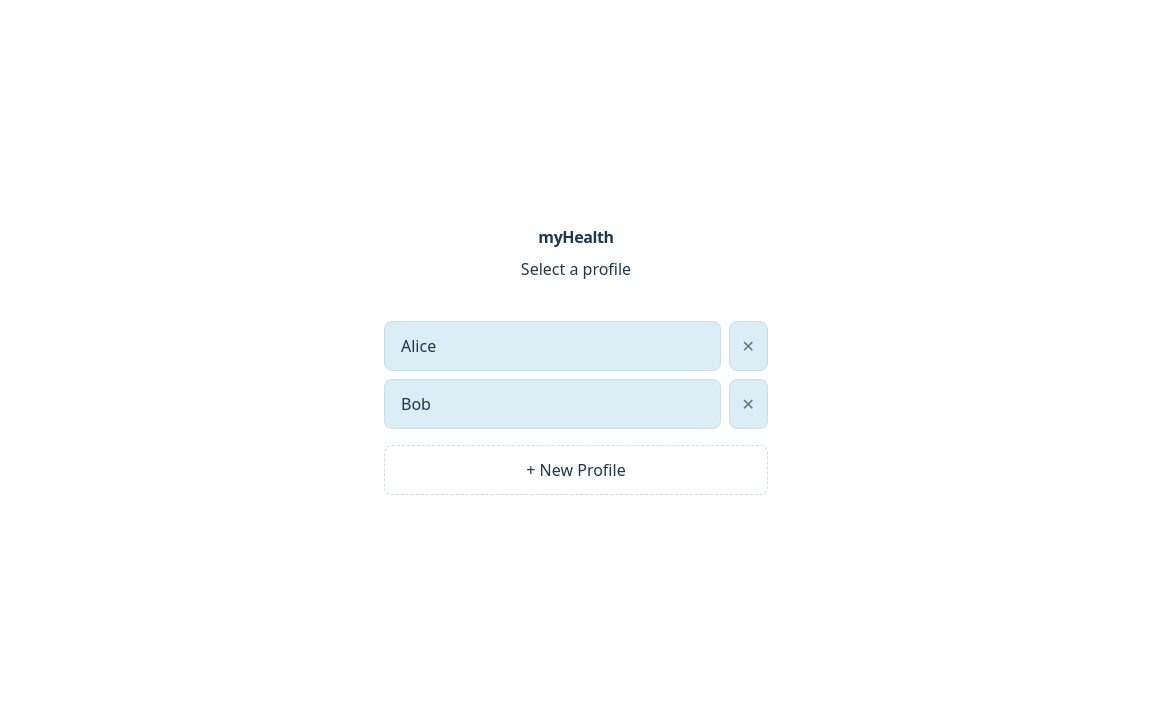
Test: ProfilesPage — delete flow › removes profile from list on confirm
Expected: the number of elements with test id "profile-item" is 2, [384,321,768,371]; [384,379,768,429]
What coordinates should you click on to do the following:
click the 1st button with test id "delete-profile-btn"
I would click on:
 (748, 346)
Its box is [729,321,768,371].
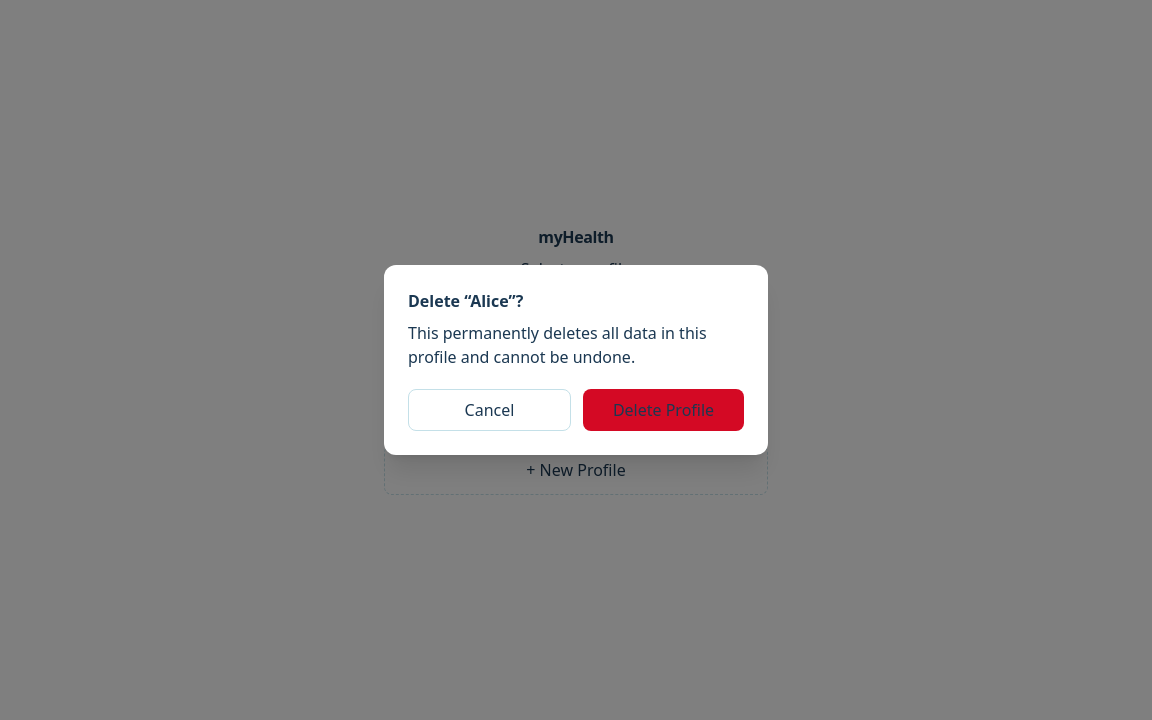
What coordinates should you click on to do the following:
click the button with test id "confirm-delete-btn"
I would click on:
 (664, 410)
Its box is [583,389,744,431].
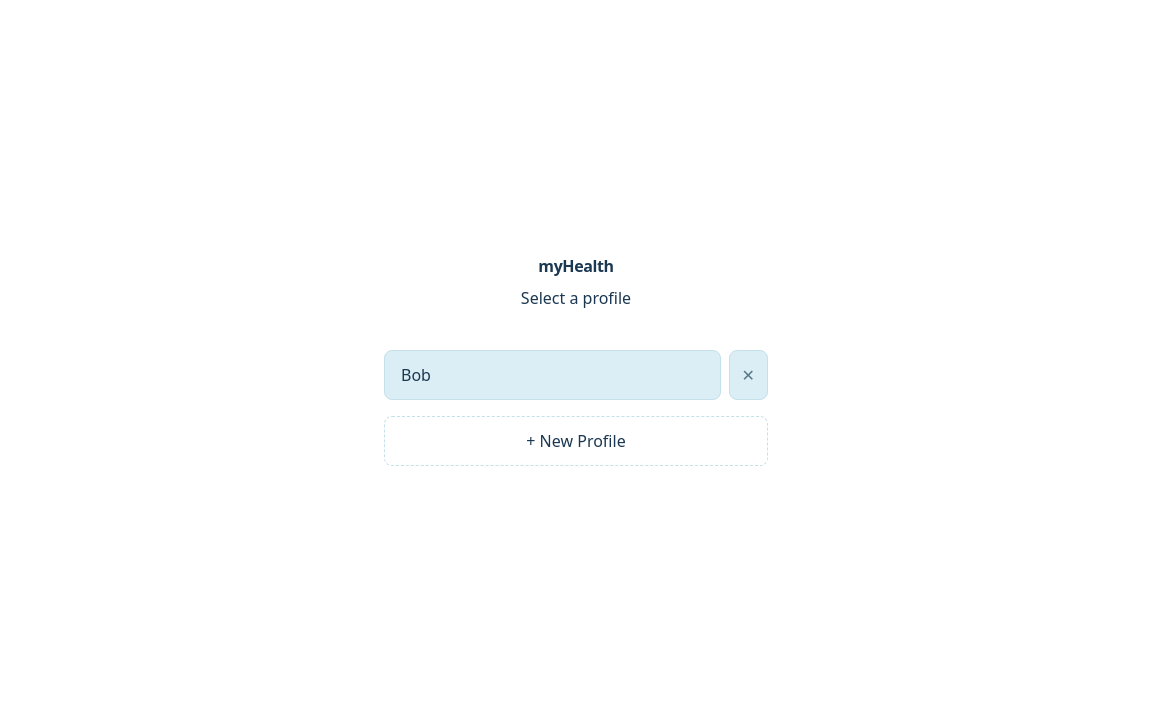
Expected: the button "Bob" is shown, [384,350,721,400]
Expected: the number of elements with test id "profile-item" is 1, [384,350,768,400]
Expected: the button "Alice" is gone
